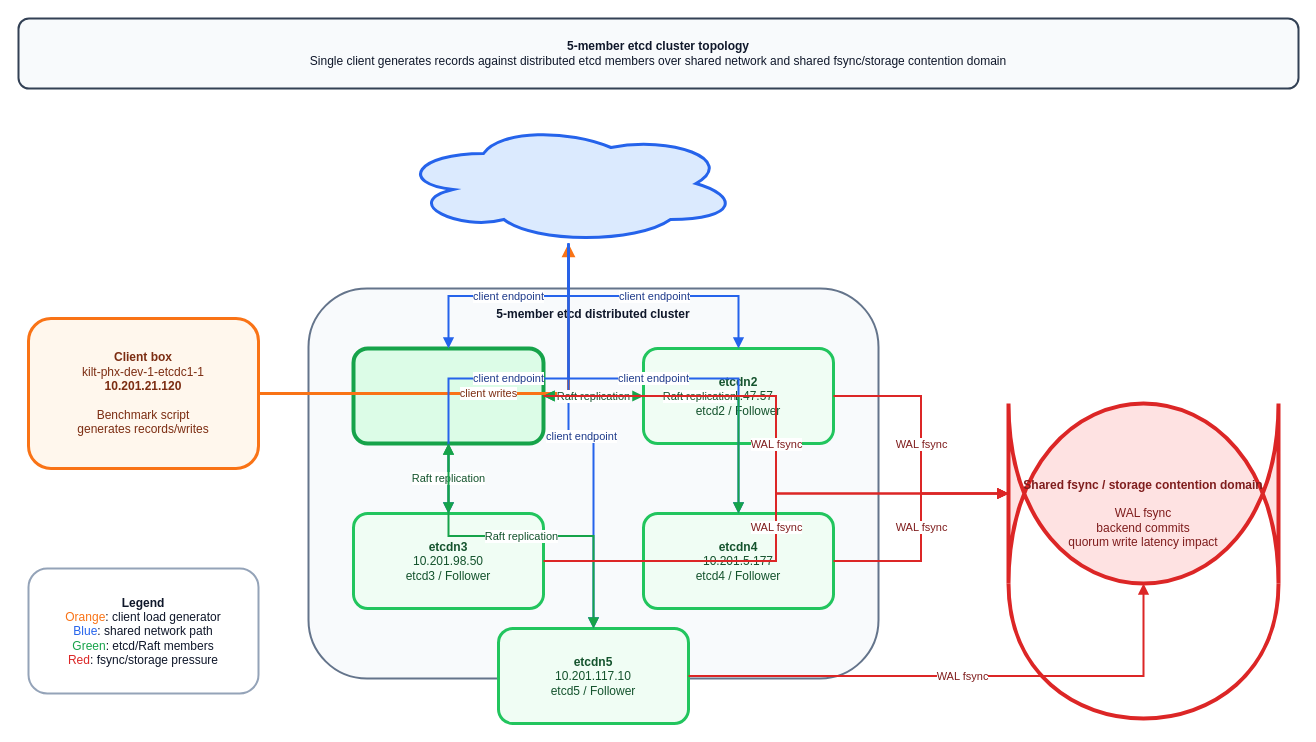
The diagram is 1316 pixels wide and 742 high, and some of its shapes have lost their labels. Each missing label, with the centre of its shape:
"etcdn1 10.201.162.151 etcd1 / Leader" belongs at point 448,395.
"Shared Network Fabric client traffic :2379 Raft peer traffic :2380" belongs at point 568,183.
